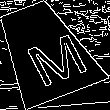M_NW: (8, 19, 82, 83)
